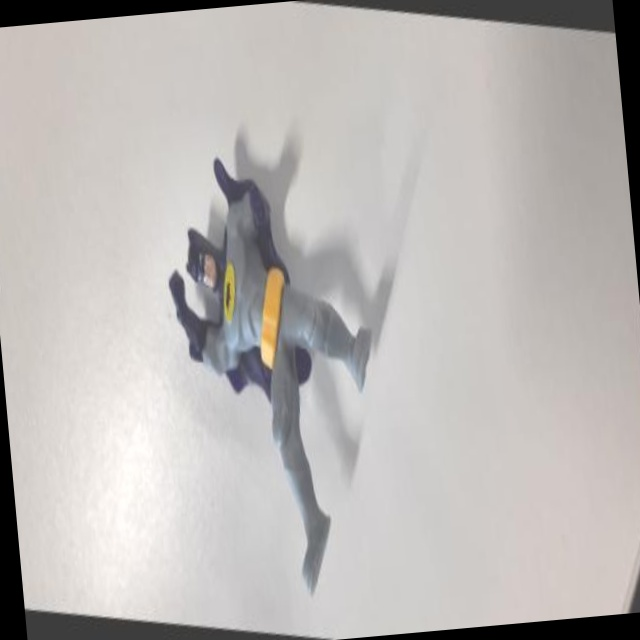Batman: (144, 133, 407, 626)
